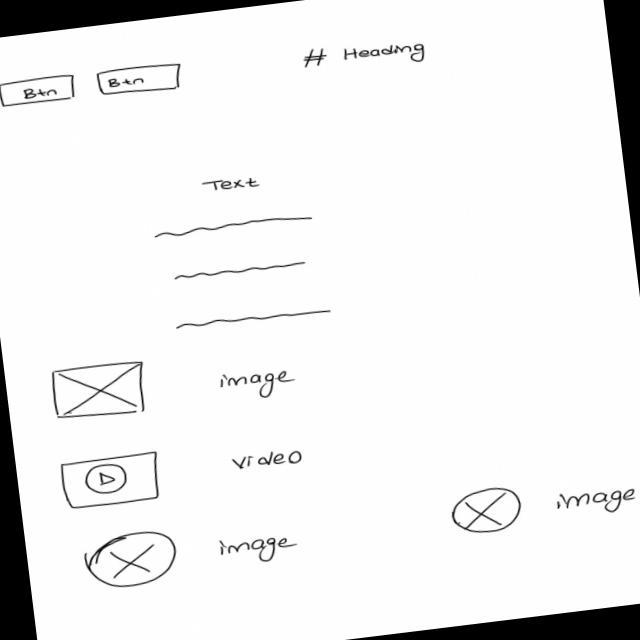button: (97, 61, 185, 100), (1, 72, 80, 109)
image: (48, 358, 151, 426), (81, 527, 184, 595), (448, 483, 527, 538)
label: (300, 32, 430, 79), (215, 364, 301, 407), (215, 529, 300, 571), (552, 483, 640, 523), (231, 447, 308, 475), (201, 173, 263, 196)
text: (174, 303, 336, 337), (153, 211, 319, 243), (174, 256, 312, 285)
